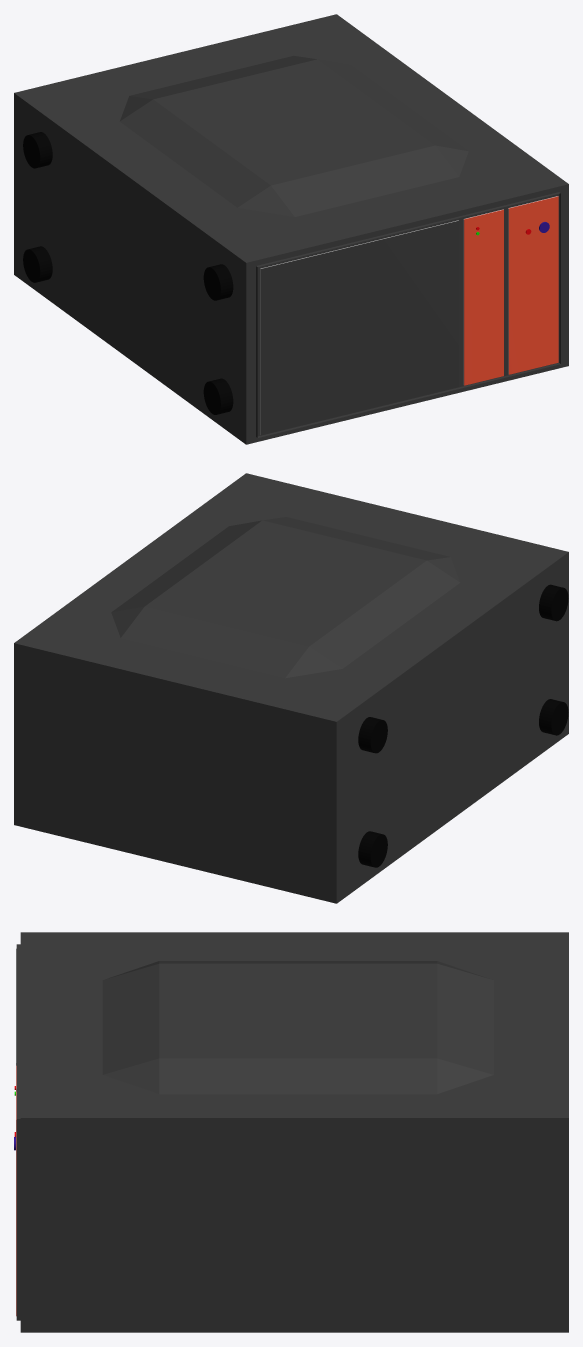
3 views of the same model, one above another, from view 1: azimuth 30°, elevation 25°; view 2: azimuth 150°, elevation 25°; view 3: azimuth 270°, elevation 25° (orthographic). The views are drawn at different scales.
Visible parts, largest first — view 1: Корпус, Передняя панелька, Ножки; view 2: Корпус, Ножки; view 3: Корпус.
Boxes of the visible parts, <box> form: Корпус: <box>14,14,568,444</box>; Передняя панелька: <box>260,196,558,435</box>; Ножки: <box>23,132,233,414</box>; Корпус: <box>14,473,568,903</box>; Ножки: <box>358,584,568,867</box>; Корпус: <box>16,932,568,1332</box>.
Size of the model in its own units: 67.5 by 37.7 by 82.
